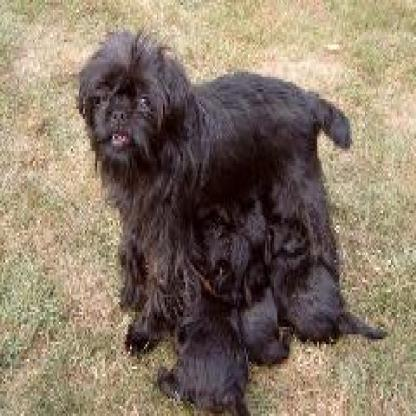affenpinscher: (66, 12, 395, 411)
